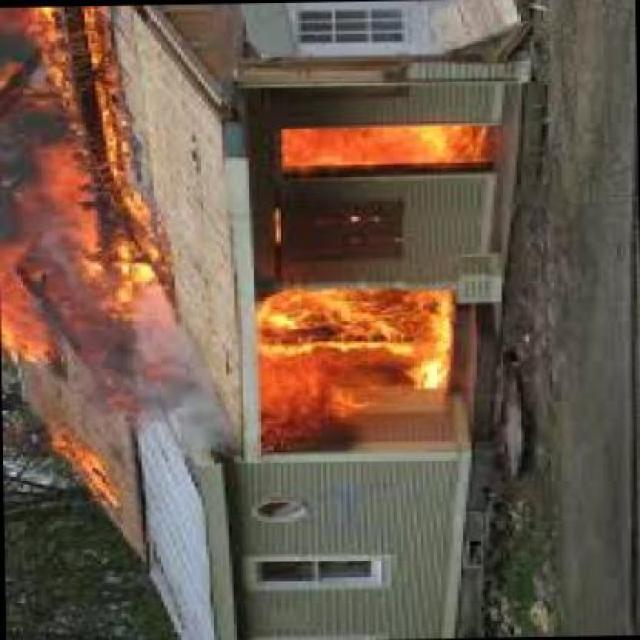Fire: (3, 6, 189, 353), (250, 268, 458, 446), (281, 125, 517, 176), (40, 426, 136, 514)
